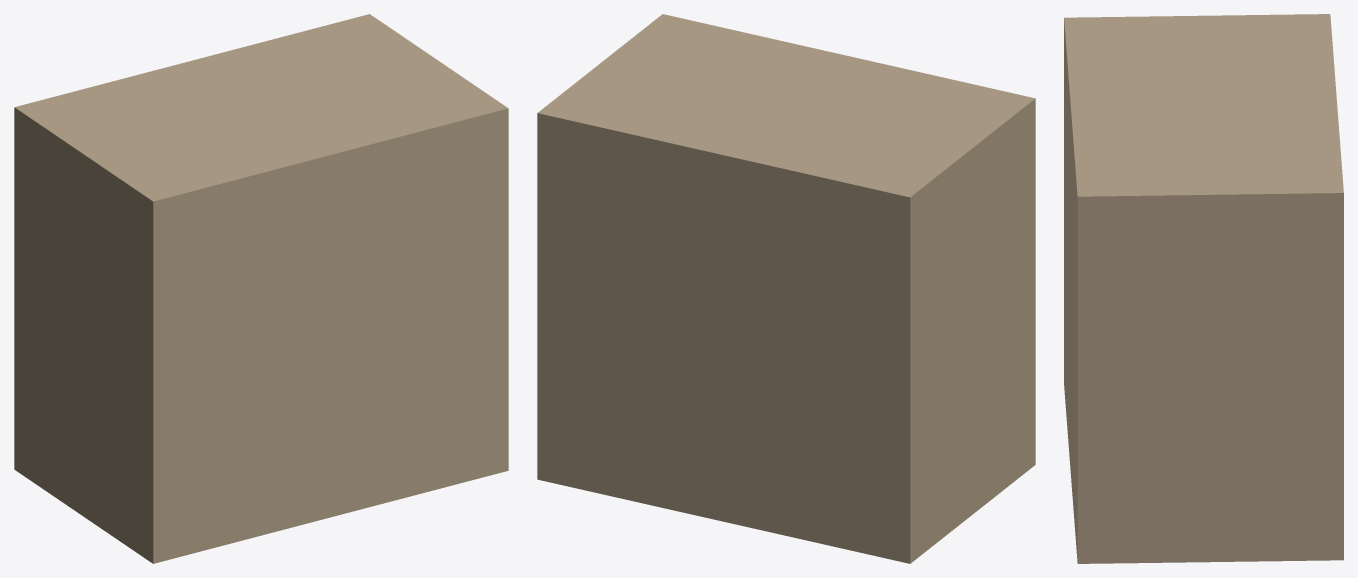
Rendered from bld_164496085.dae.
The picture shows the model from 3 angles, left to right: view 1: azimuth 30°, elevation 25°; view 2: azimuth 150°, elevation 25°; view 3: azimuth 270°, elevation 25°; orthographic projection.
Visible parts, largest first — view 1: bld_164496085; view 2: bld_164496085; view 3: bld_164496085.
Part boxes in pixels (bbox=[...]): bld_164496085: bbox=[14, 14, 508, 563]; bld_164496085: bbox=[537, 14, 1035, 563]; bld_164496085: bbox=[1064, 14, 1343, 563].
Bounding box in the file's own units: 8.54 × 5.52 × 8.
